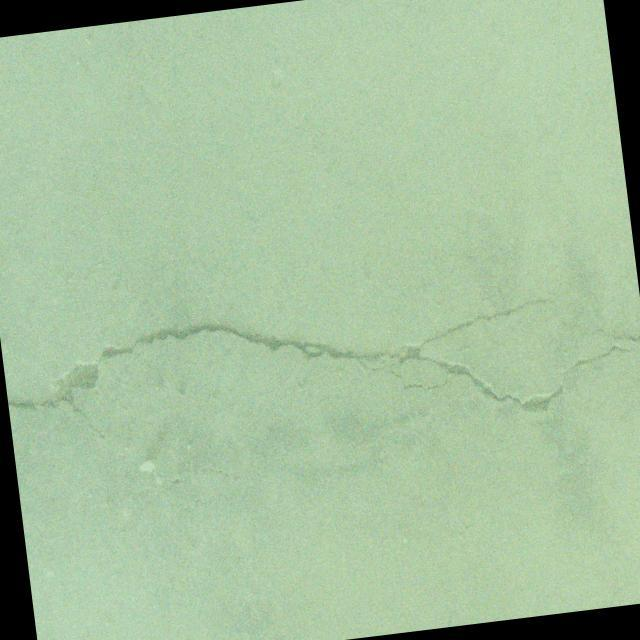crack: (1, 269, 640, 503), (206, 442, 289, 484), (563, 313, 640, 356), (105, 362, 132, 396), (132, 354, 162, 368)
